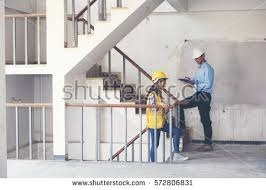helmet: (190, 47, 206, 58), (151, 72, 166, 81)
person with full safety: (145, 71, 181, 166)
person with partial safety: (183, 47, 215, 150)
safety vest: (145, 91, 168, 129)
